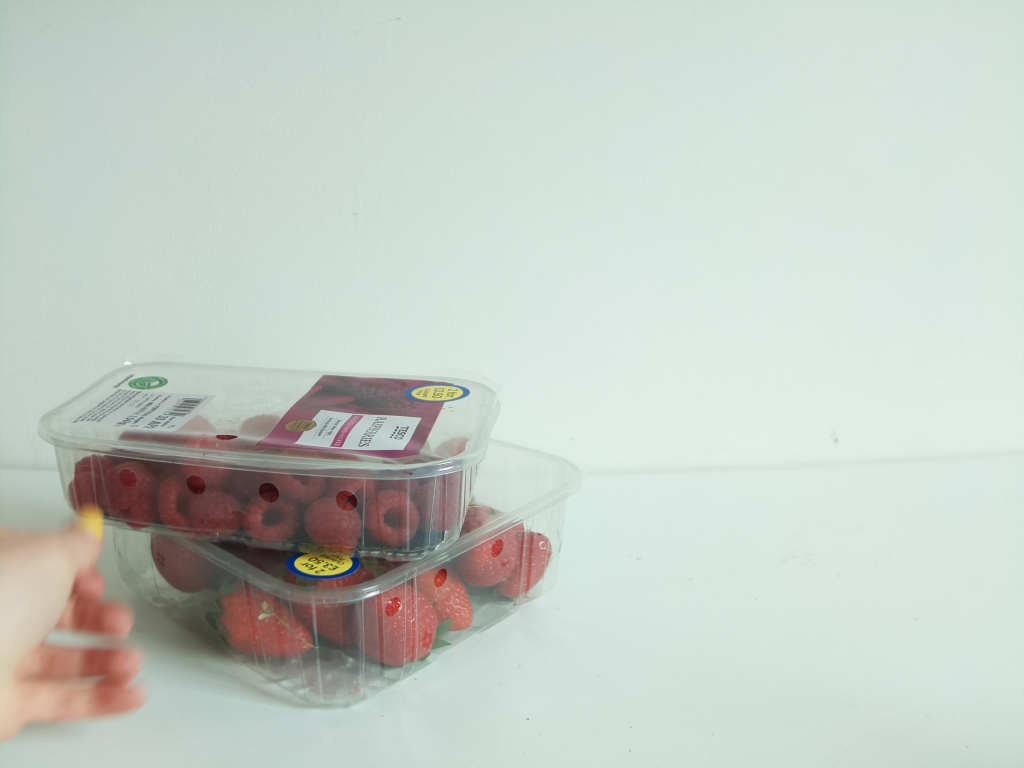soft-fruit: (112, 435, 577, 703), (36, 354, 505, 566)
